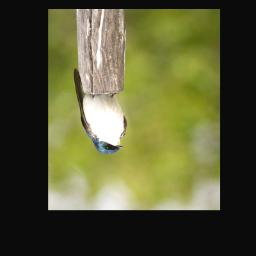Swallow: (73, 68, 129, 158)
